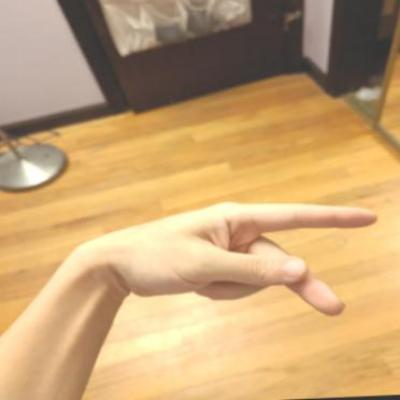hand: (120, 192, 385, 328)
